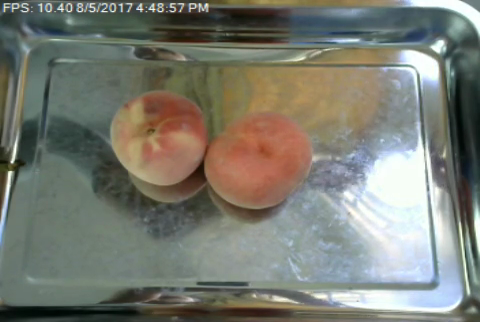Peach: (203, 111, 311, 206), (109, 88, 206, 188)
